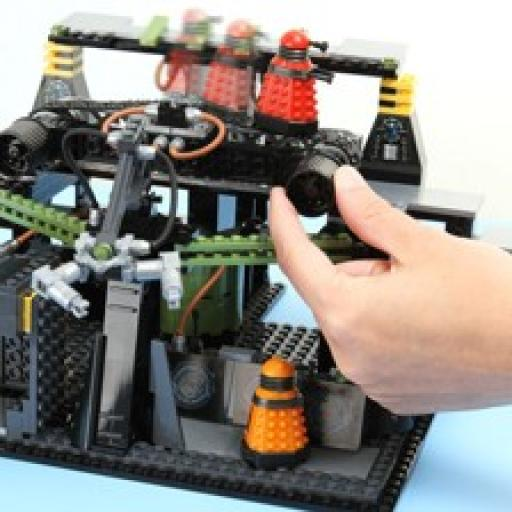dalek: (243, 357, 315, 463), (260, 31, 326, 134), (208, 19, 266, 128)
